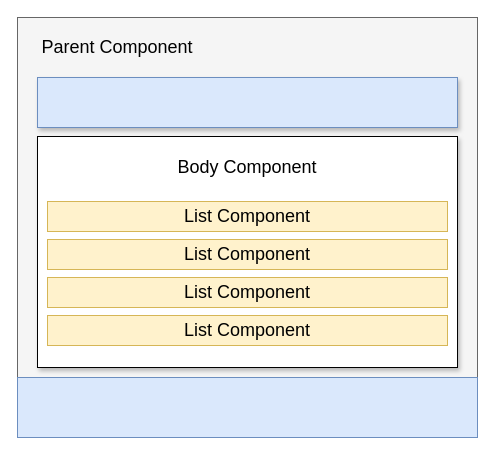
The diagram is 495 pixels wide and 455 high, and some of its shapes have lost their labels. Here are the shapes that lost their labels. From the top down, the centre of each, then its label:
[247,102]: Title Component
[247,407]: Footer Component
